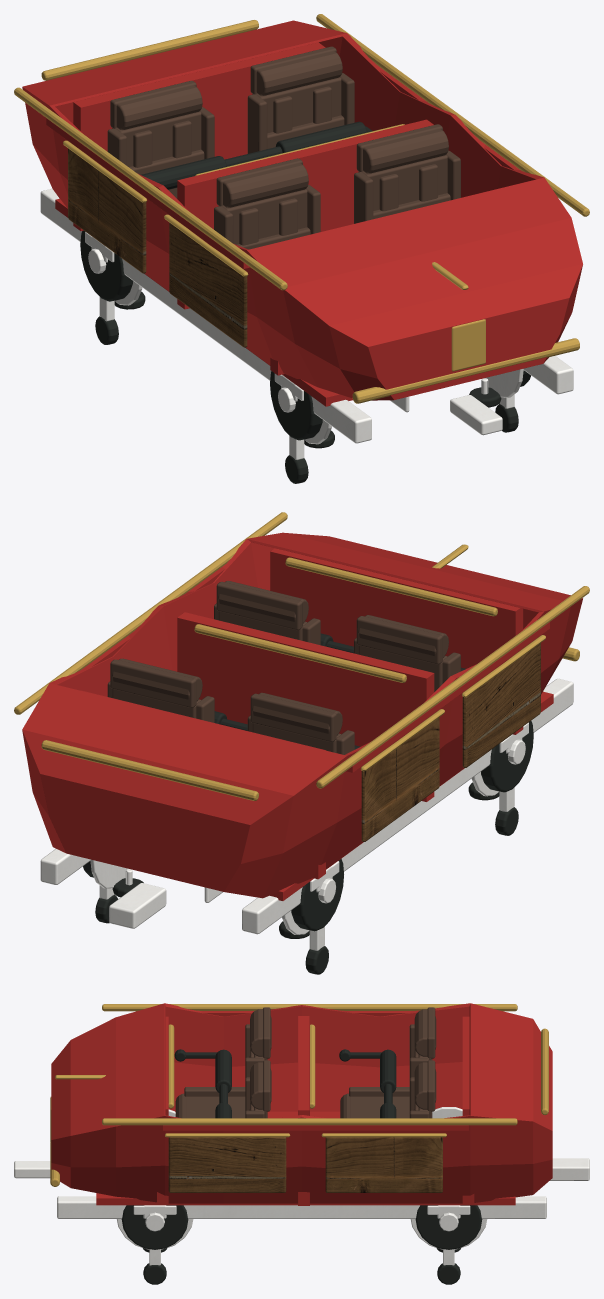
File: wooden-car.glb
3 views of the same model, one above another, from view 1: azimuth 30°, elevation 25°; view 2: azimuth 150°, elevation 25°; view 3: azimuth 270°, elevation 25° (orthographic). The views are drawn at different scales.
Visible parts, largest first — view 1: CarBody_Tub, Seating_Cushions, CarBody_Trim, CarBody_TimberSide, Chassis_Frame, BogieFront_Treads, LapBar_Rear_Mesh, BogieRear_Treads, BogieFront_Metal, BogieRear_Metal; view 2: CarBody_Tub, Seating_Cushions, CarBody_Trim, CarBody_TimberSide, Chassis_Frame, BogieRear_Treads, BogieFront_Treads, BogieRear_Metal, BogieFront_Metal; view 3: CarBody_Tub, CarBody_TimberSide, Seating_Cushions, CarBody_Trim, Chassis_Frame, BogieFront_Treads, BogieRear_Treads, BogieRear_Metal, LapBar_Rear_Mesh, LapBar_Front_Mesh, BogieFront_Metal.
Boxes of the visible parts, left/top/right/bottom form: CarBody_Tub: left=22, top=20, right=582, bottom=406; Seating_Cushions: left=107, top=46, right=460, bottom=249; CarBody_Trim: left=14, top=14, right=589, bottom=403; CarBody_TimberSide: left=68, top=148, right=247, bottom=347; Chassis_Frame: left=40, top=188, right=573, bottom=443; BogieFront_Treads: left=270, top=370, right=530, bottom=483; LapBar_Rear_Mesh: left=141, top=121, right=372, bottom=189; BogieRear_Treads: left=80, top=230, right=145, bottom=344; BogieFront_Metal: left=274, top=369, right=523, bottom=459; BogieRear_Metal: left=85, top=232, right=142, bottom=321; CarBody_Tub: left=22, top=532, right=582, bottom=900; Seating_Cushions: left=107, top=581, right=460, bottom=754; CarBody_Trim: left=14, top=512, right=589, bottom=800; CarBody_TimberSide: left=361, top=643, right=540, bottom=841; Chassis_Frame: left=40, top=678, right=573, bottom=934; BogieRear_Treads: left=83, top=858, right=343, bottom=974; BogieFront_Treads: left=468, top=721, right=533, bottom=835; BogieRear_Metal: left=90, top=860, right=339, bottom=950; BogieFront_Metal: left=471, top=722, right=528, bottom=811; CarBody_Tub: left=51, top=1003, right=552, bottom=1205; CarBody_TimberSide: left=168, top=1137, right=442, bottom=1192; Seating_Cushions: left=175, top=1007, right=436, bottom=1118; CarBody_Trim: left=50, top=1004, right=548, bottom=1186; Chassis_Frame: left=14, top=1158, right=589, bottom=1218; BogieFront_Treads: left=121, top=1205, right=188, bottom=1284; BogieRear_Treads: left=415, top=1205, right=482, bottom=1284; BogieRear_Metal: left=410, top=1107, right=487, bottom=1265; LapBar_Rear_Mesh: left=339, top=1049, right=396, bottom=1118; LapBar_Front_Mesh: left=174, top=1049, right=231, bottom=1118; BogieFront_Metal: left=116, top=1109, right=193, bottom=1265.
Size of the model in its own units: 1.42 by 1.1 by 2.94.
6 materials, 2 textured.
